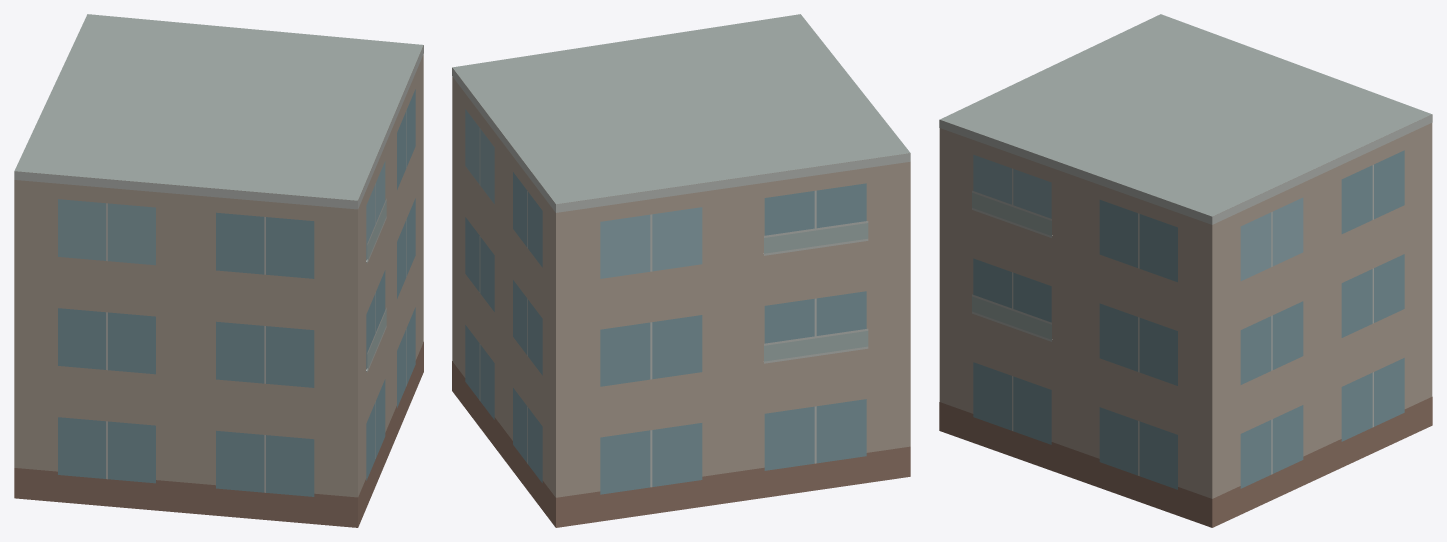
Rendered from survey-upis-32523409.glb.
3 views of the same model, side by side, from view 1: azimuth 30°, elevation 25°; view 2: azimuth 150°, elevation 25°; view 3: azimuth 270°, elevation 25° (orthographic). The views are drawn at different scales.
Visible parts, largest first — view 1: survey-upis-32523409.tmp; view 2: survey-upis-32523409.tmp; view 3: survey-upis-32523409.tmp.
Part boxes in pixels (x1,y1,x2,y2): survey-upis-32523409.tmp: (14, 14, 423, 527); survey-upis-32523409.tmp: (452, 14, 910, 527); survey-upis-32523409.tmp: (939, 14, 1432, 527).
Bounding box in the file's own units: 12.78 × 9.15 × 13.14.
